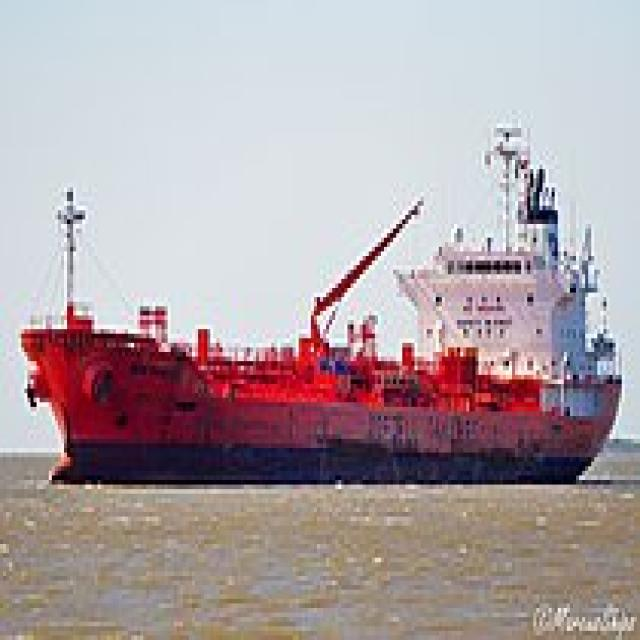Tanker: (15, 119, 622, 484)
